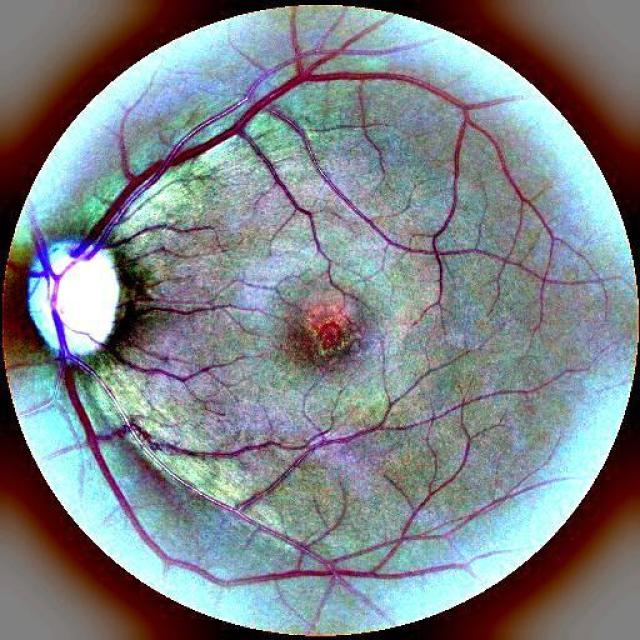Macula: (288, 290, 374, 380)
Nerves: (42, 35, 365, 577)
Optic Disk: (6, 230, 164, 387)
